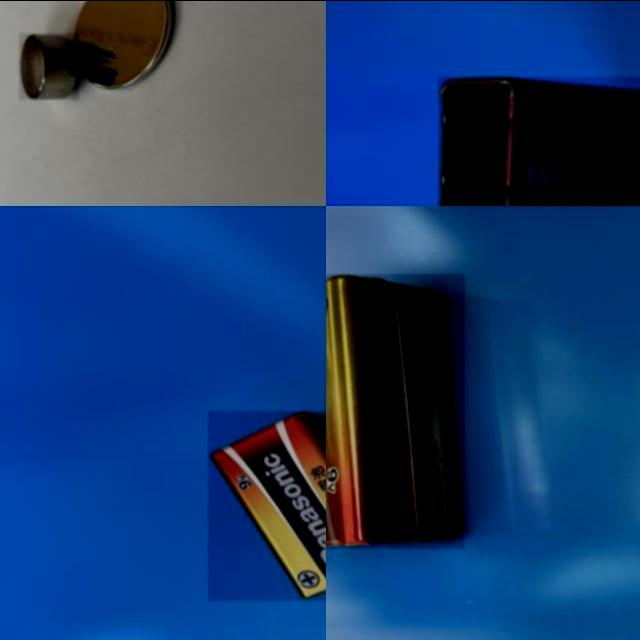9V: (326, 273, 465, 548), (437, 76, 640, 205), (208, 410, 326, 600)
